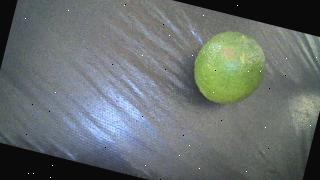DESECHO: (187, 24, 273, 112)
